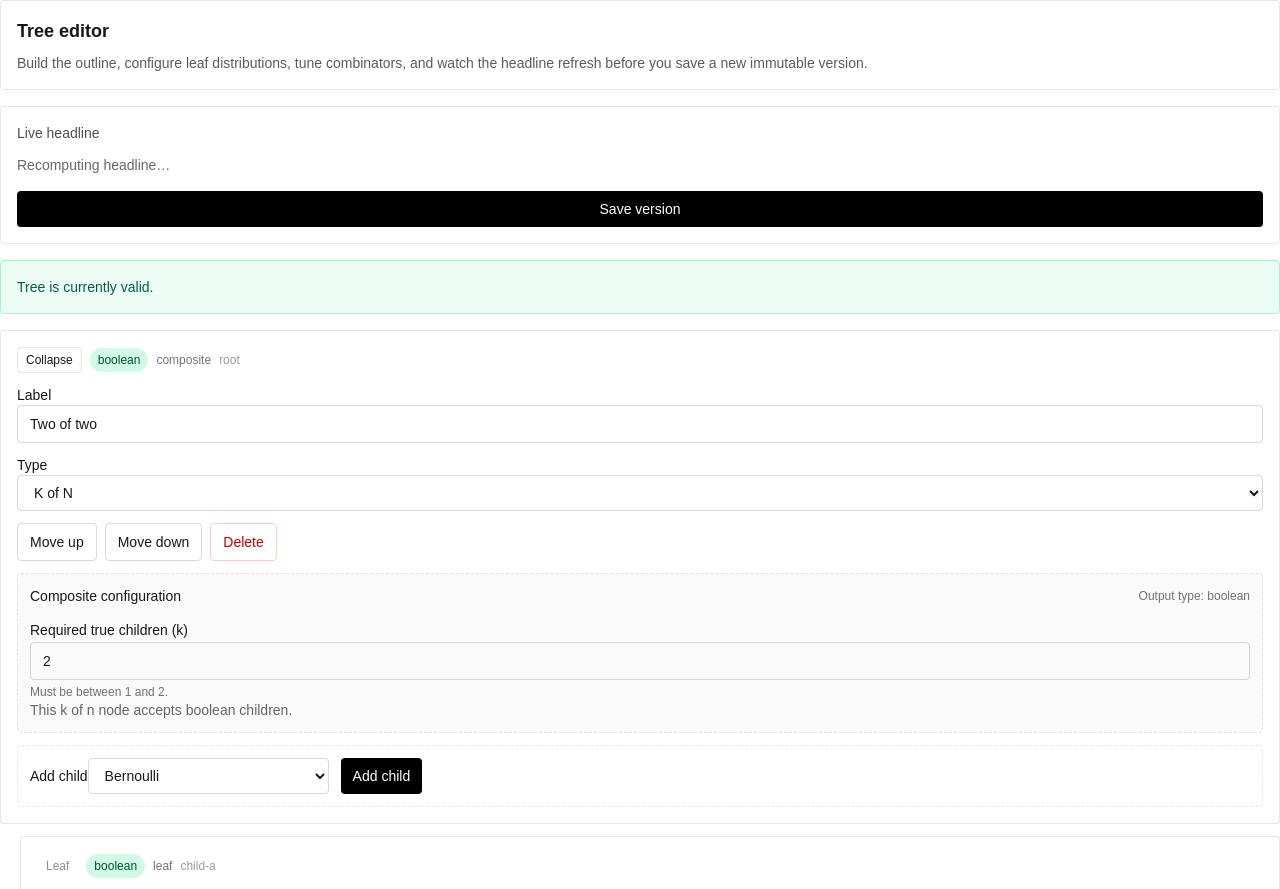
Test case: TreeEditorShell › rejects invalid k_of_n values in the composite editor
Replace the text in the number field named "K for root" with "3" at (640, 661), box [30,642,1250,680]
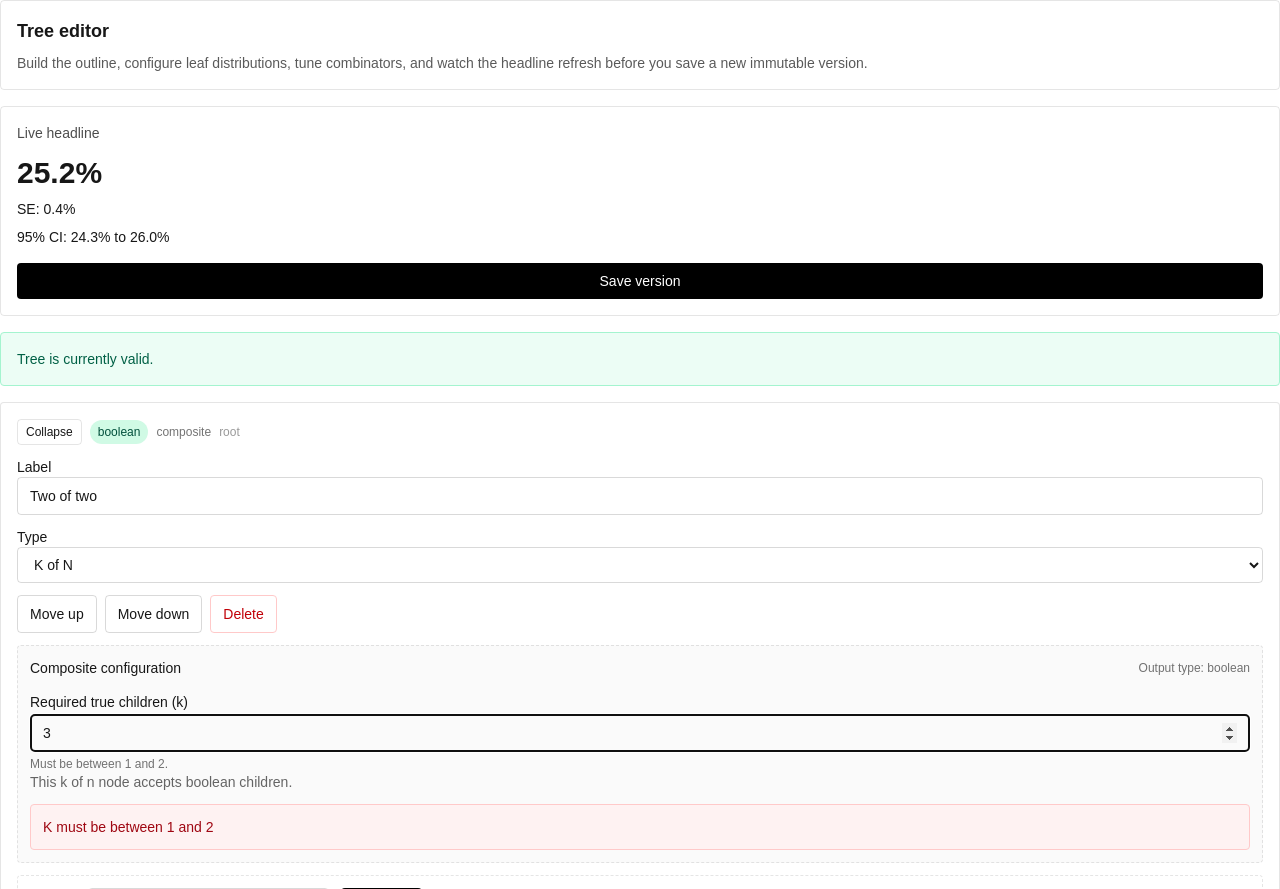
Expected: the text "K must be between 1 and 2" is shown, [30,804,1250,850]
